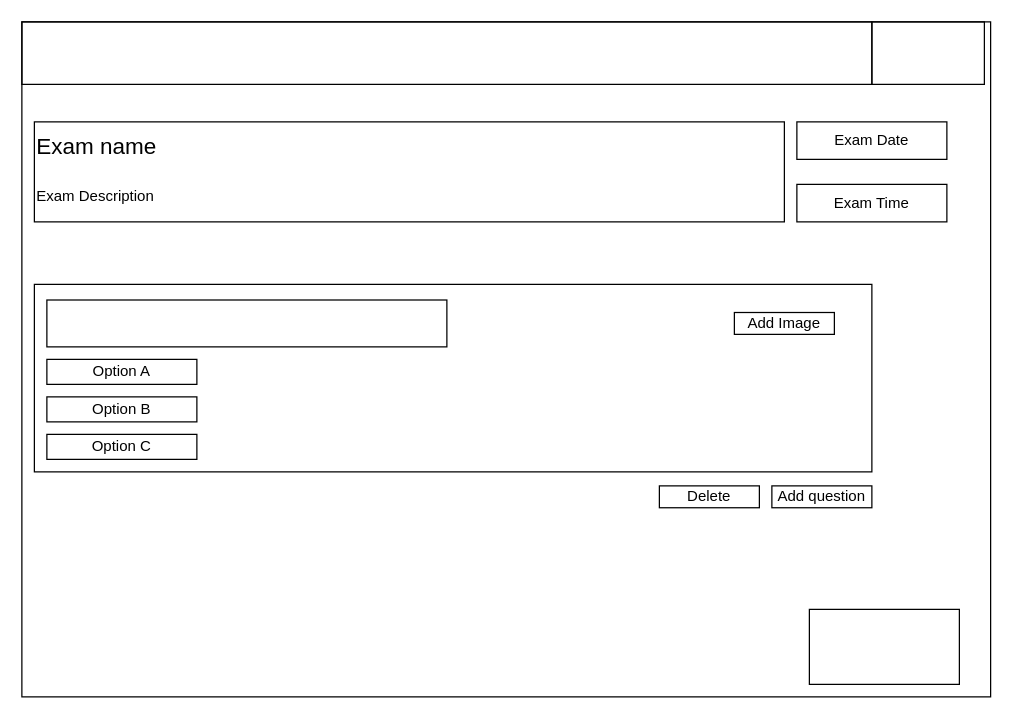
The diagram is 1013 pixels wide and 719 high, and some of its shapes have lost their labels. Each missing label, with the centre of its shape:
"Back to Dashboard" belongs at (927,52).
"Create An Exam" belongs at (446,52).
"CREATE EXAM" belongs at (883,646).
"Question" belongs at (246,323).
